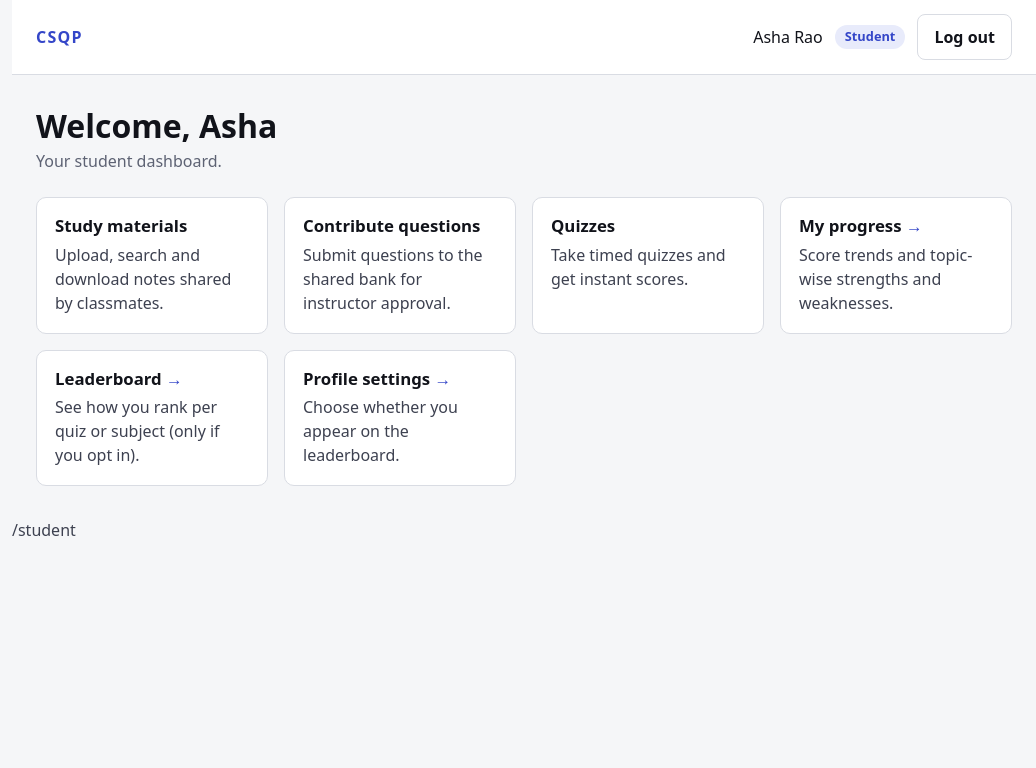
Test: role-based routing › logs out back to the login page
Click the button "Log out" at (965, 37), box [917, 14, 1012, 60]
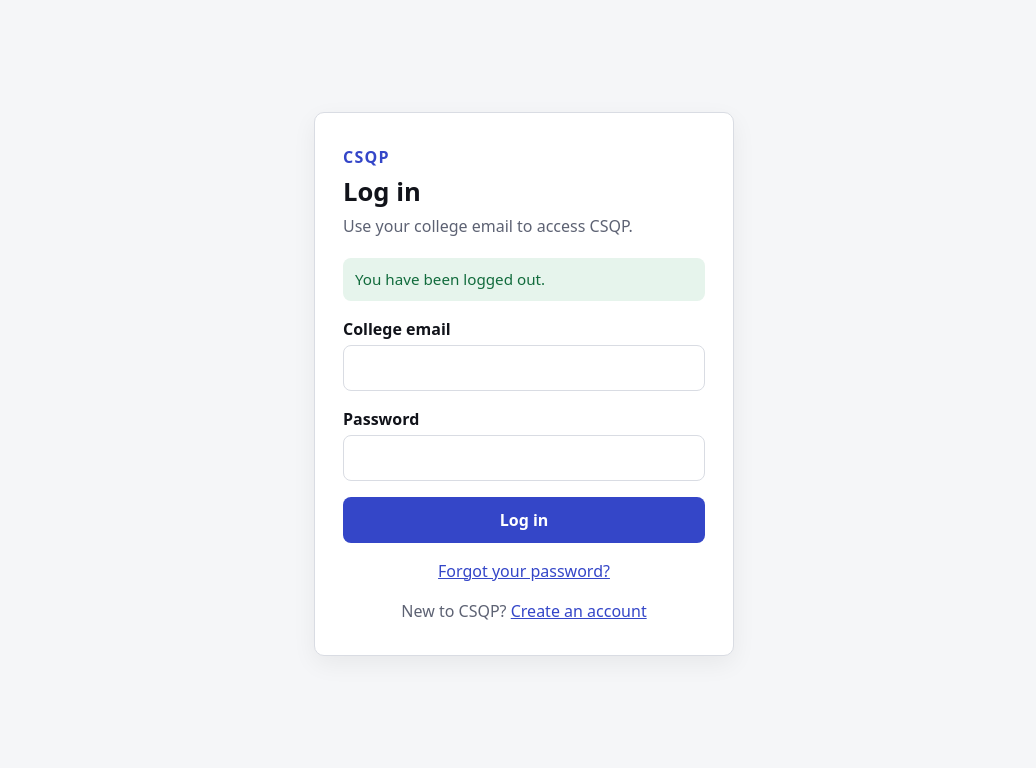
Expected: the heading "Log in" is shown, [343, 174, 421, 209]
Expected: the message reads "You have been logged out.", [355, 269, 545, 289]
